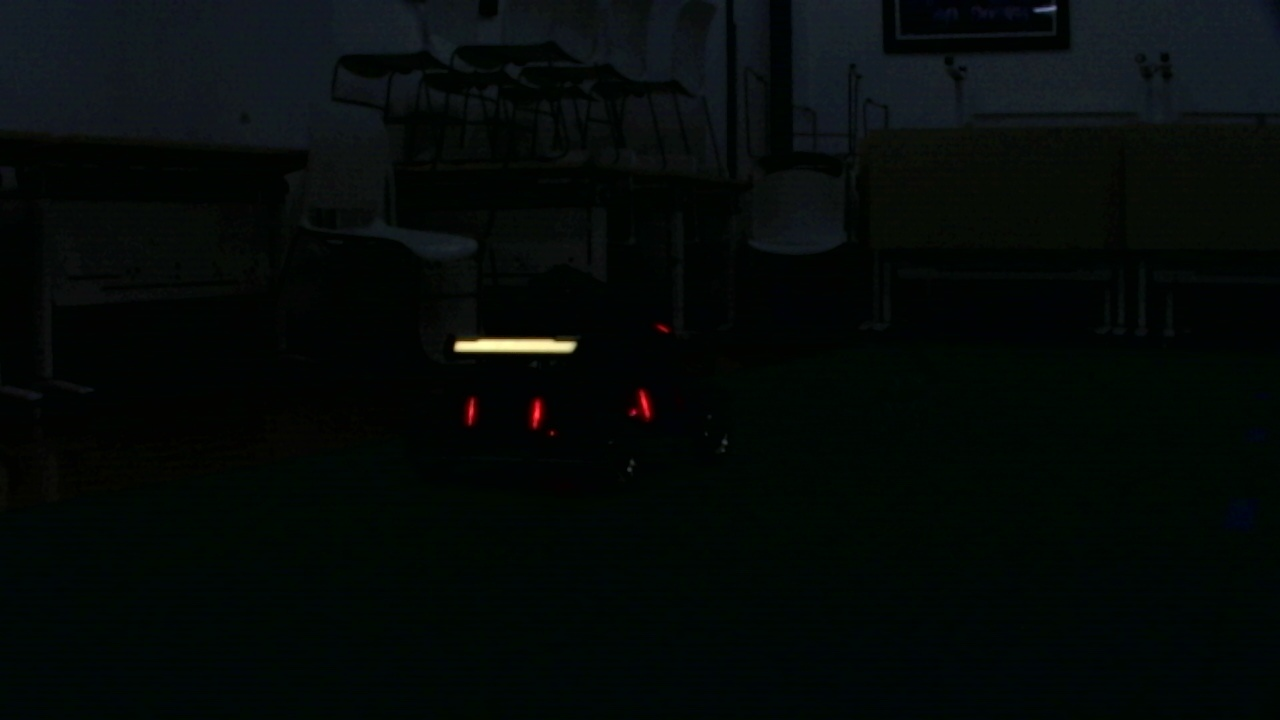lamp: (634, 389, 654, 418), (531, 395, 545, 427), (466, 397, 476, 424)
pair1: (467, 398, 543, 425)
